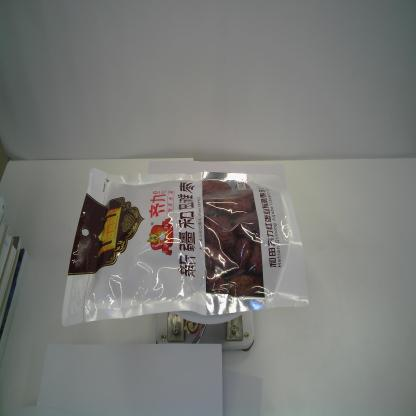Dried Food: (59, 165, 311, 329)
